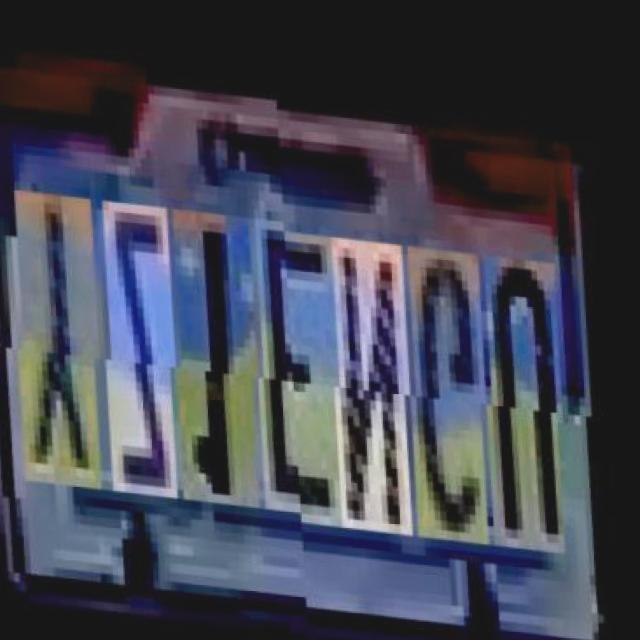1: (176, 204, 280, 501)
e: (259, 211, 362, 510)
g: (411, 225, 509, 523)
n: (334, 218, 432, 516)
u: (487, 232, 586, 530)
y: (18, 189, 121, 487)
z: (105, 196, 197, 494)
